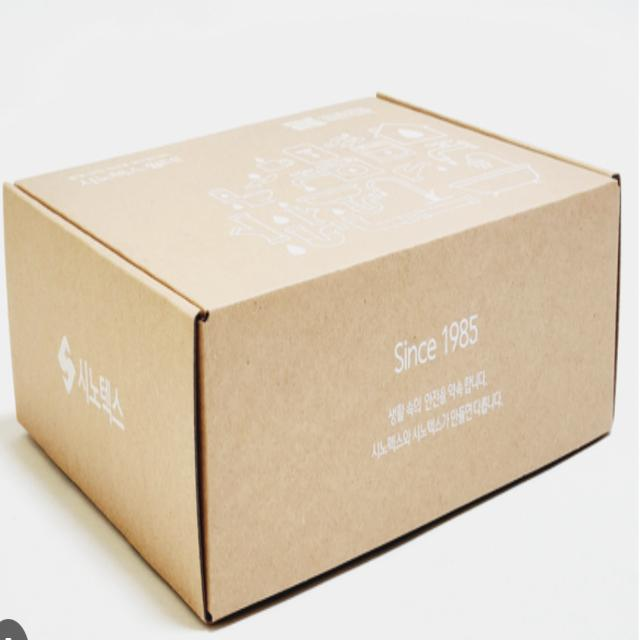biodegradable: (6, 48, 632, 630)
